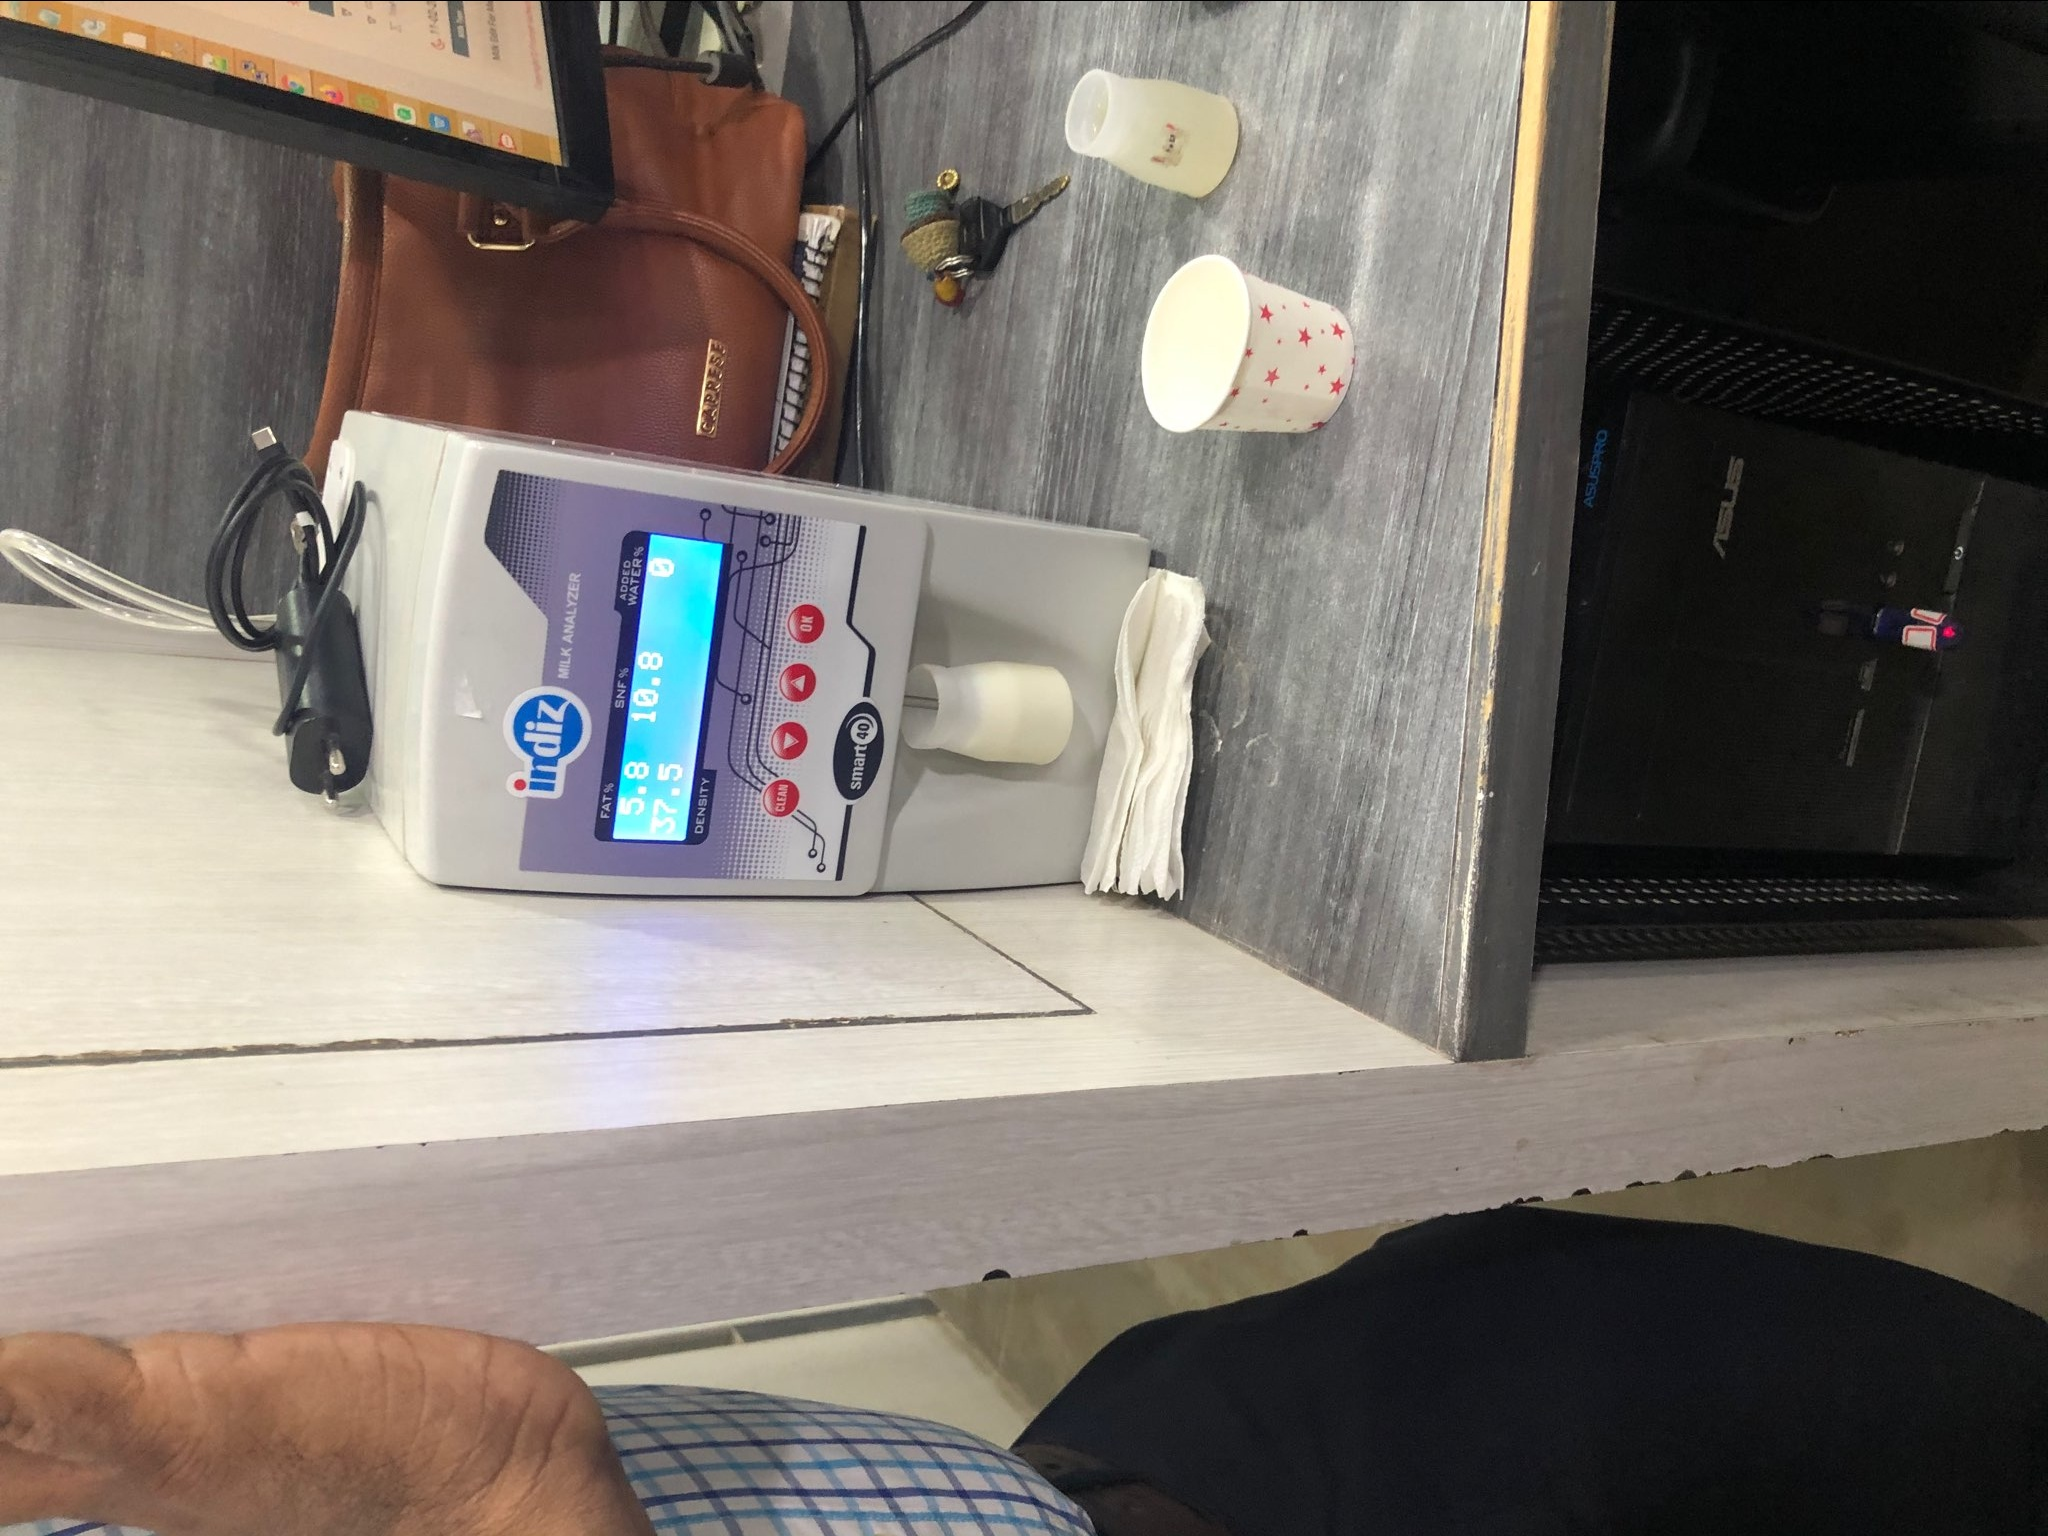lcd: (593, 516, 734, 857)
